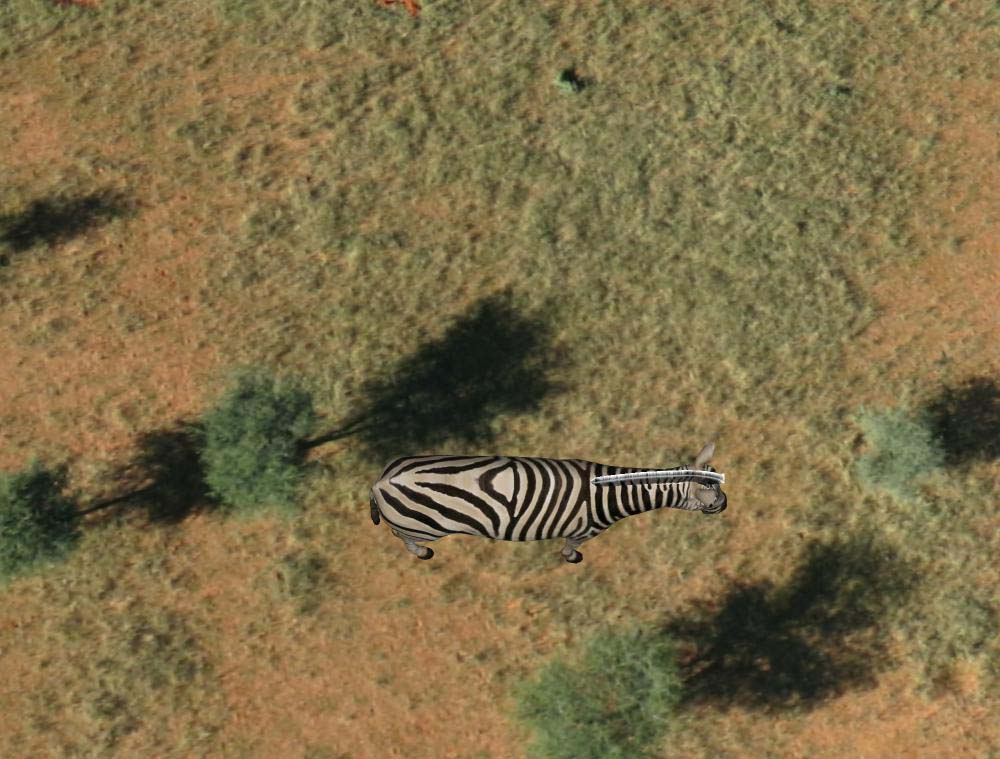zebra: (366, 448, 734, 564)
